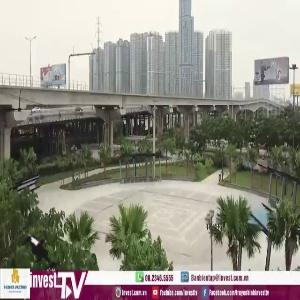drone: (12, 217, 80, 285)
